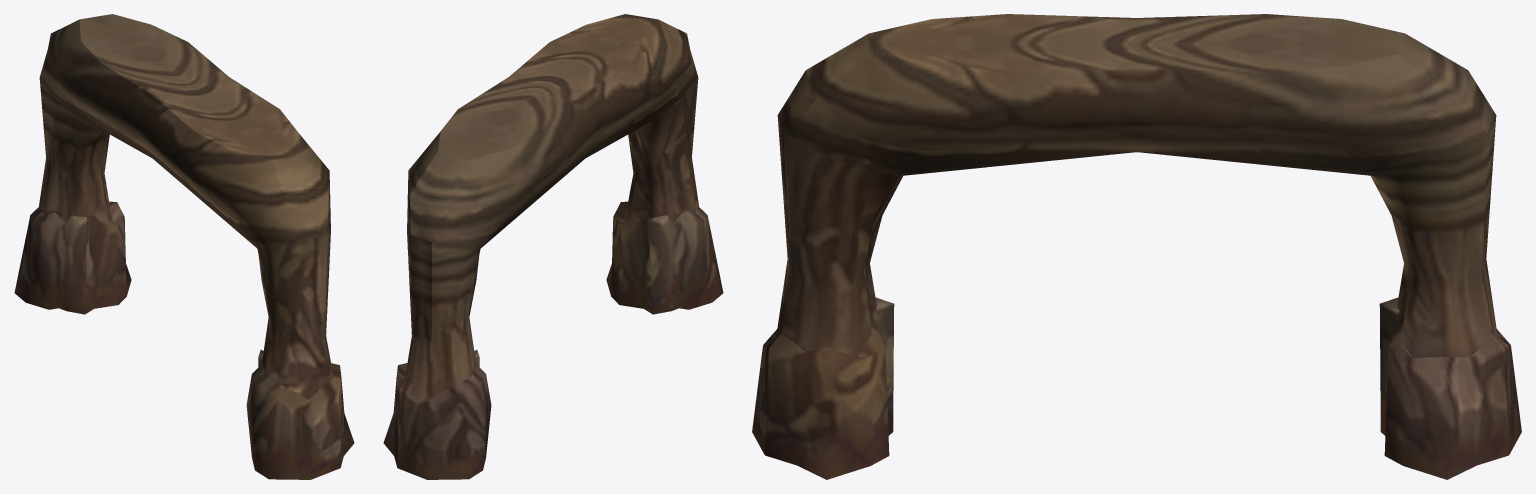
Rendered from Battle02_Stelae_01.FBX.
The picture shows the model from 3 angles, left to right: view 1: azimuth 30°, elevation 25°; view 2: azimuth 150°, elevation 25°; view 3: azimuth 270°, elevation 25°; orthographic projection. The views are drawn at different scales.
Parts seen in each view (by area): view 1: Battle02_Stelae_01; view 2: Battle02_Stelae_01; view 3: Battle02_Stelae_01.
Part boxes in pixels (left/top/right/bottom): Battle02_Stelae_01: left=14, top=14, right=354, bottom=479; Battle02_Stelae_01: left=383, top=14, right=723, bottom=479; Battle02_Stelae_01: left=752, top=14, right=1521, bottom=479.
Bounding box in the file's own units: 2.55 × 5.72 × 9.96.
